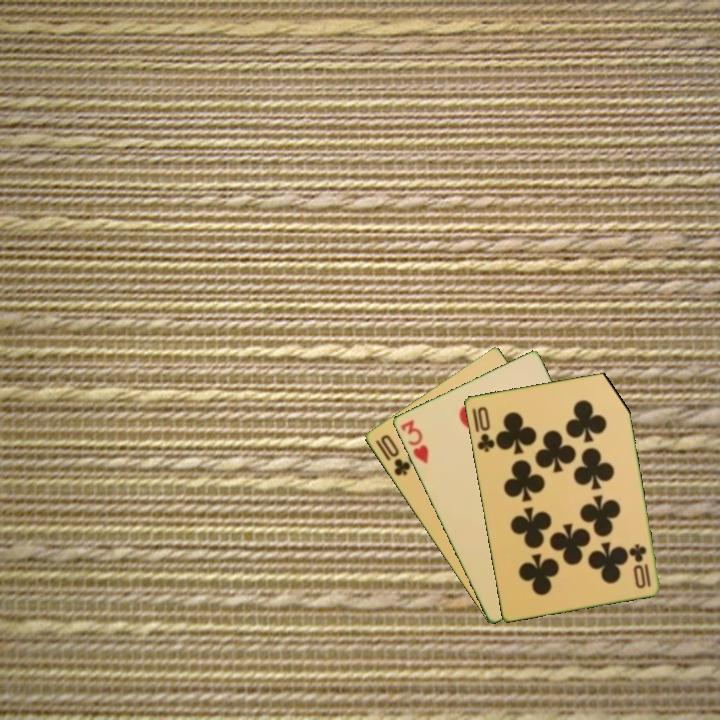10c: (372, 431, 413, 479), (626, 540, 653, 589), (473, 403, 497, 455)
3h: (397, 416, 431, 467)
